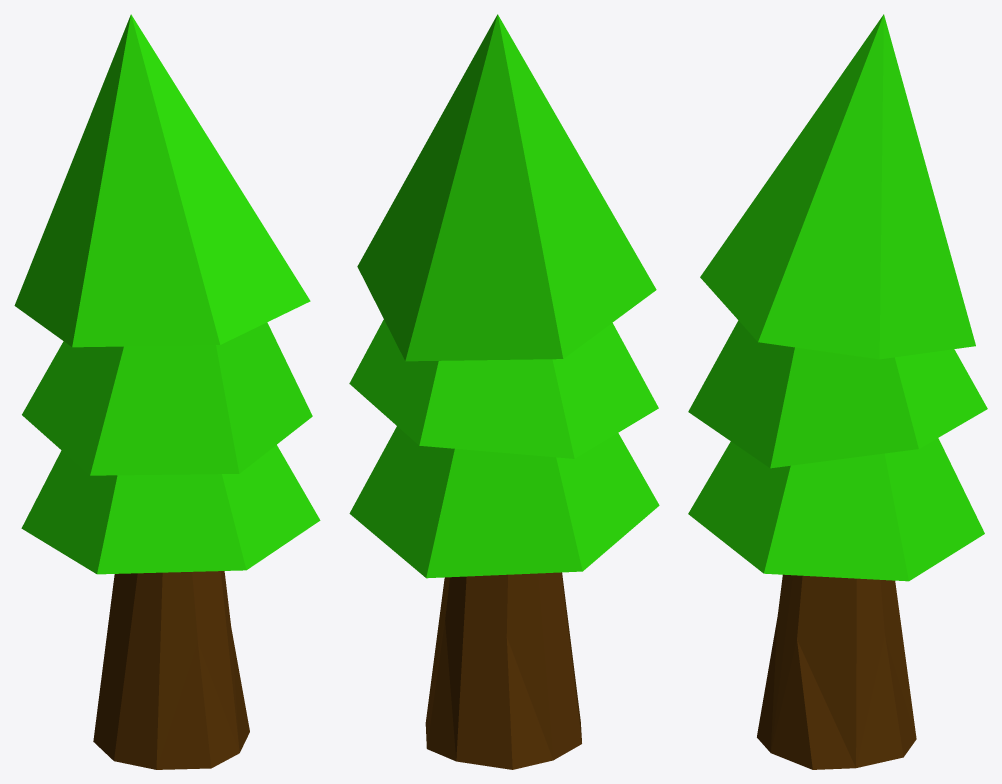
The model's file is Pine tree#2.fbx.
3 views of the same model, side by side, from view 1: azimuth 30°, elevation 25°; view 2: azimuth 150°, elevation 25°; view 3: azimuth 270°, elevation 25° (orthographic). The views are drawn at different scales.
Parts seen in each view (by area): view 1: Pine tree#2; view 2: Pine tree#2; view 3: Pine tree#2.
Boxes of the visible parts, x1,y1,x2,y2 form: Pine tree#2: (14, 14, 320, 769); Pine tree#2: (349, 14, 659, 769); Pine tree#2: (688, 14, 987, 769).
Size of the model in its own units: 251 by 705 by 268.
